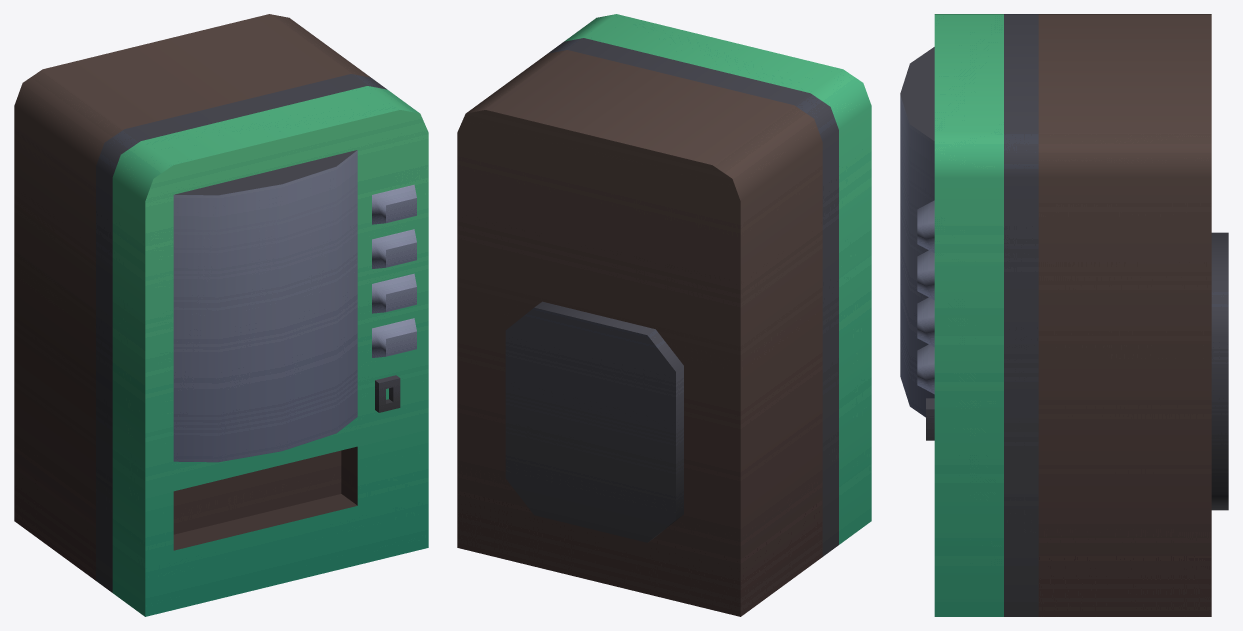
The model's file is vending-machine.glb.
3 views of the same model, side by side, from view 1: azimuth 30°, elevation 25°; view 2: azimuth 150°, elevation 25°; view 3: azimuth 270°, elevation 25° (orthographic). The views are drawn at different scales.
Parts seen in each view (by area): view 1: vending-machine; view 2: vending-machine; view 3: vending-machine.
Boxes of the visible parts, x1,y1,x2,y2 form: vending-machine: (14,14,428,616); vending-machine: (457,14,871,616); vending-machine: (900,14,1228,616).
Bounding box in the file's own units: 0.5 × 0.75 × 0.475.
Materials: 1 (1 with a texture image).
